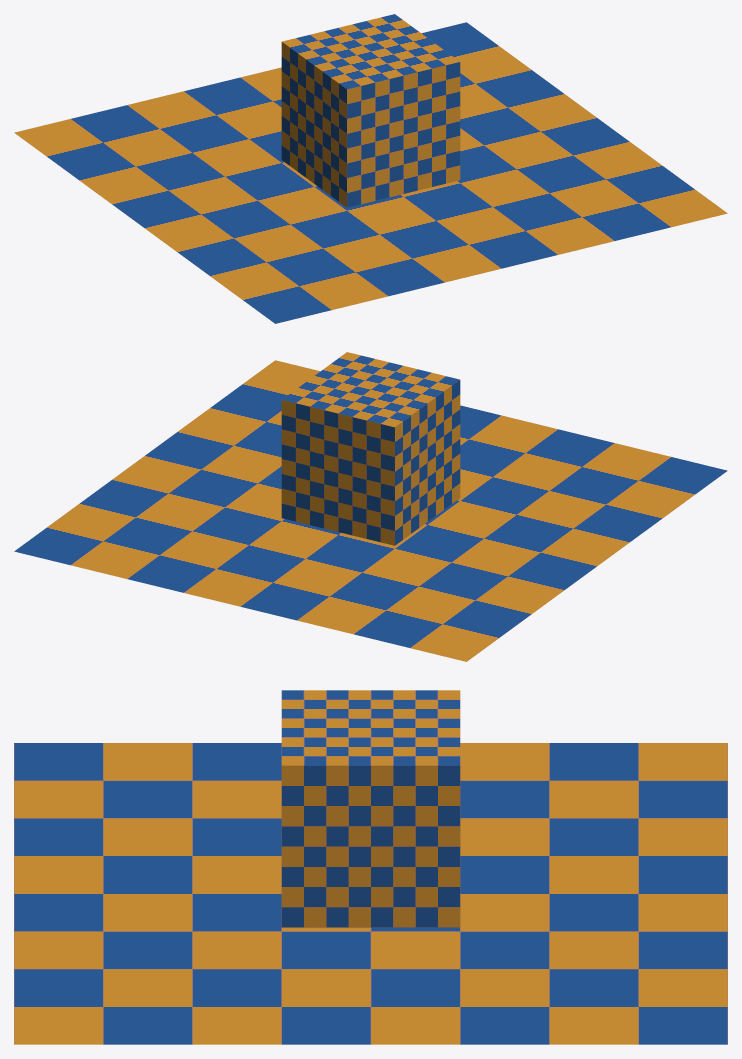
The model's file is Checker-PNG.glb.
The picture shows the model from 3 angles, top to bottom: view 1: azimuth 30°, elevation 25°; view 2: azimuth 150°, elevation 25°; view 3: azimuth 270°, elevation 25°; orthographic projection. The views are drawn at different scales.
Size of the model in its own units: 8 by 2.05 by 8.
Materials: 1 (1 with a texture image).
